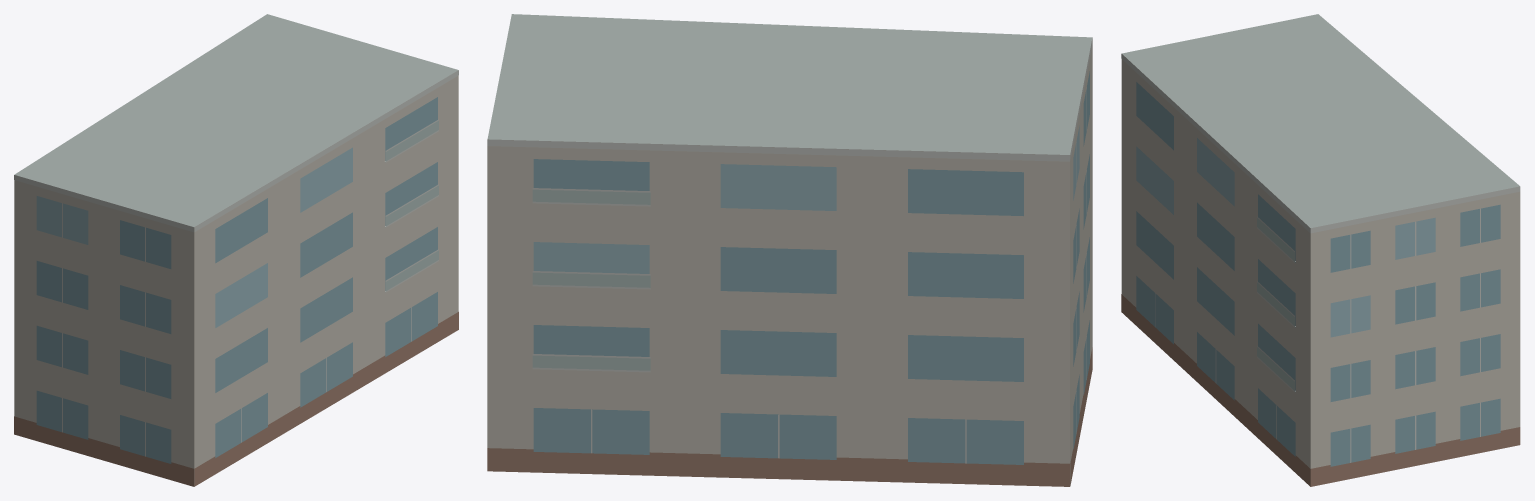
Rendered from survey-upis-32568727.glb.
The picture shows the model from 3 angles, left to right: view 1: azimuth 30°, elevation 25°; view 2: azimuth 150°, elevation 25°; view 3: azimuth 270°, elevation 25°; orthographic projection. The views are drawn at different scales.
Visible parts, largest first — view 1: survey-upis-32568727.tmp; view 2: survey-upis-32568727.tmp; view 3: survey-upis-32568727.tmp.
Part boxes in pixels (x1,y1,x2,y2): survey-upis-32568727.tmp: (14, 14, 458, 486); survey-upis-32568727.tmp: (487, 14, 1092, 486); survey-upis-32568727.tmp: (1121, 14, 1520, 486).
Size of the model in its own units: 21.42 by 12.05 by 16.85.
